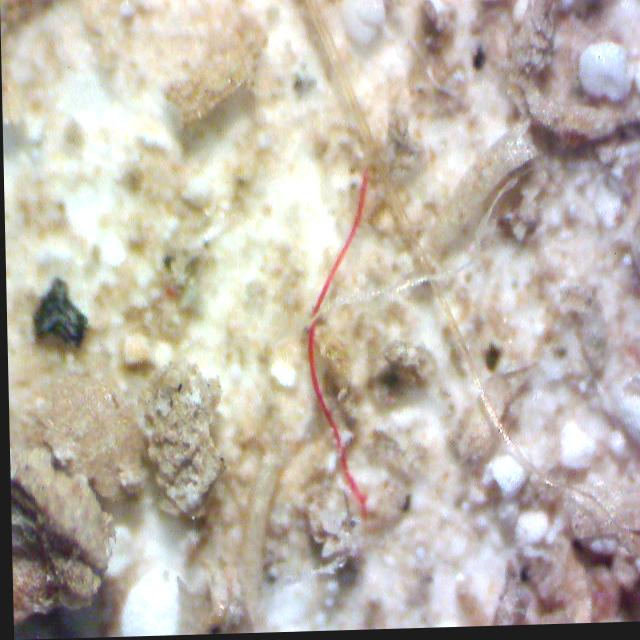microplastic: (303, 168, 370, 519)
